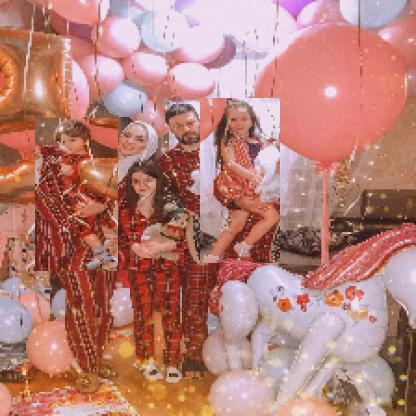child: (201, 99, 282, 266), (36, 119, 120, 273)
